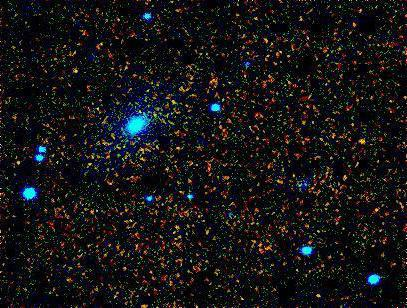star: (302, 278, 332, 308)
